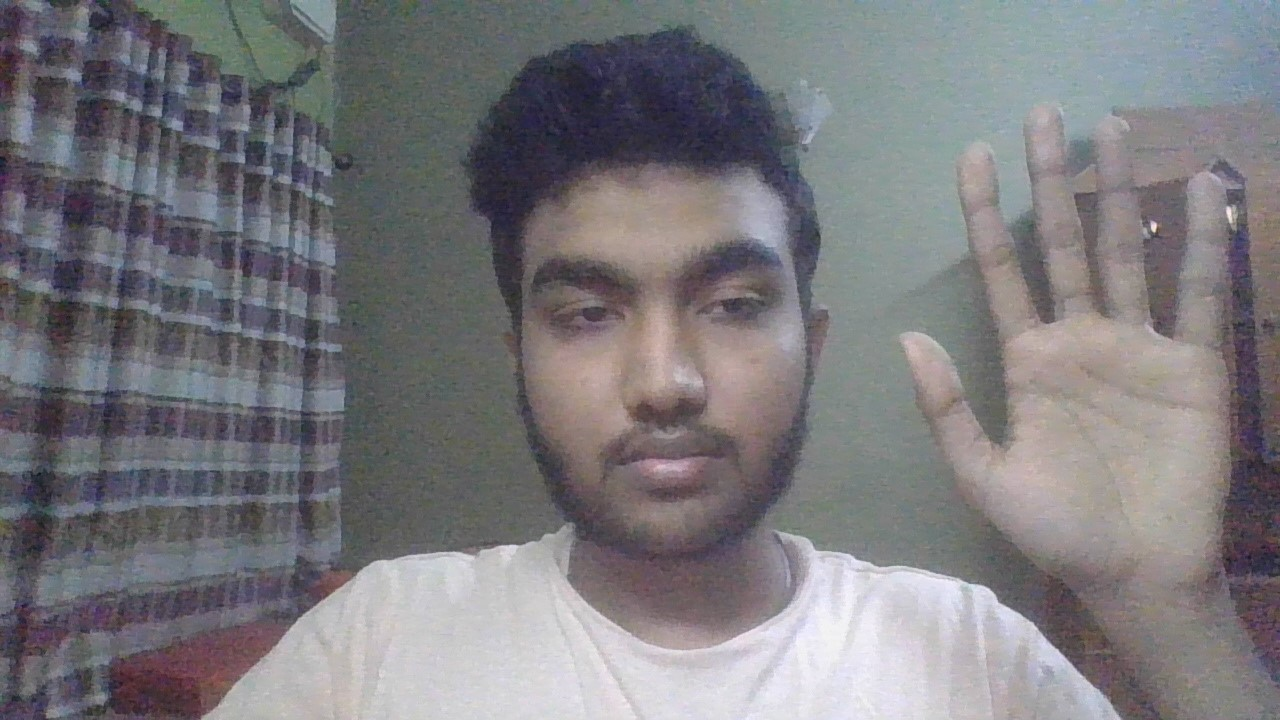Hello: (896, 102, 1268, 598)
